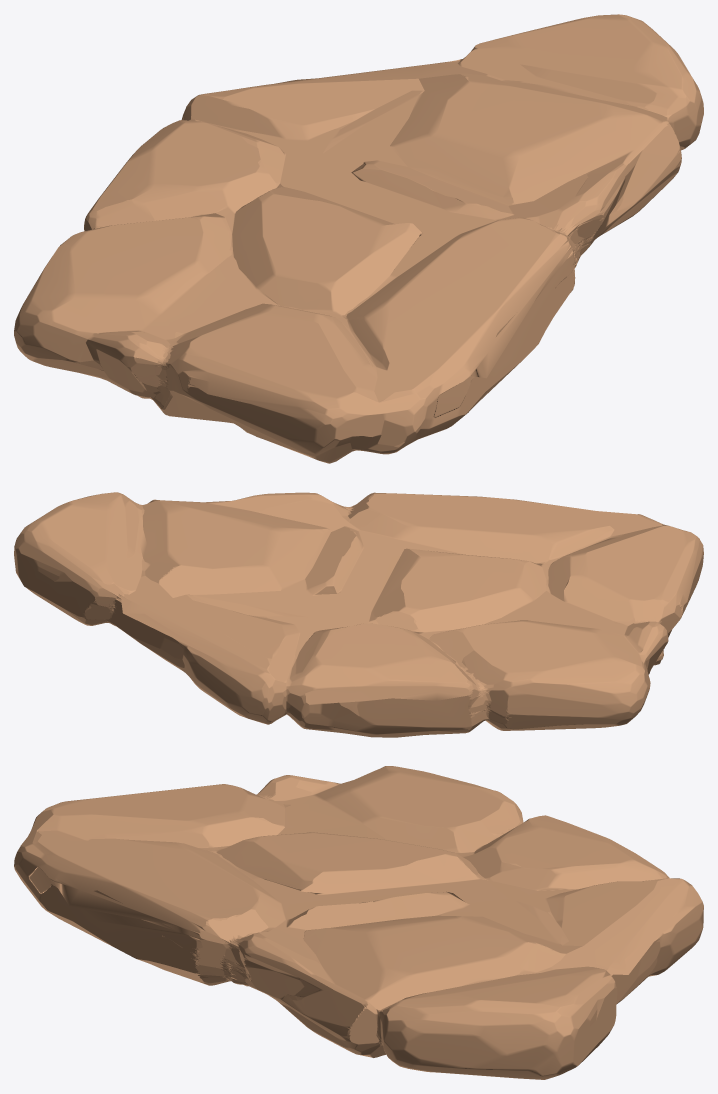
The picture shows the model from 3 angles, top to bottom: view 1: azimuth 30°, elevation 25°; view 2: azimuth 150°, elevation 25°; view 3: azimuth 270°, elevation 25°; orthographic projection. The views are drawn at different scales.
Parts seen in each view (by area): view 1: Mesh_15_LOD0; view 2: Mesh_15_LOD0; view 3: Mesh_15_LOD0.
Boxes of the visible parts, box(x1,y1,x2,y2) form: Mesh_15_LOD0: box(14, 14, 703, 463); Mesh_15_LOD0: box(14, 492, 703, 737); Mesh_15_LOD0: box(14, 766, 703, 1079).
Size of what is drawn, in the model's own units: 3098 by 607 by 2738.
